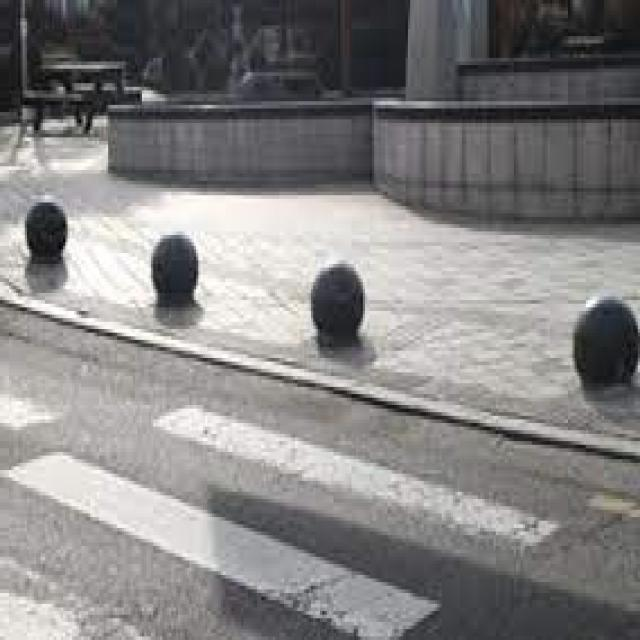bollard: (566, 282, 640, 392), (143, 226, 211, 322), (310, 260, 364, 344), (23, 186, 73, 270)
